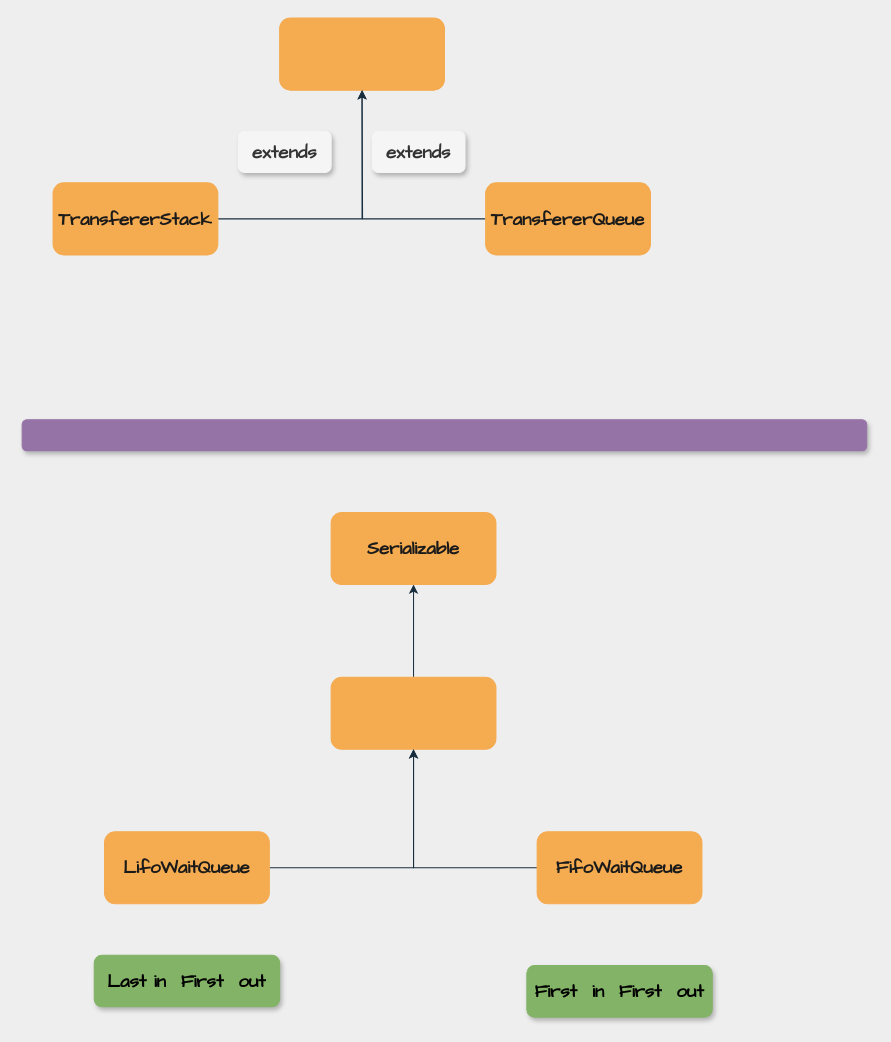
Some shapes in this 891 by 1042 pixel diagram are drawn without their labels. Here are the shapes that lost their labels. From the top down, the centre of each, then its label:
pixel 361 53: Transferer
pixel 413 712: WaitQueue
